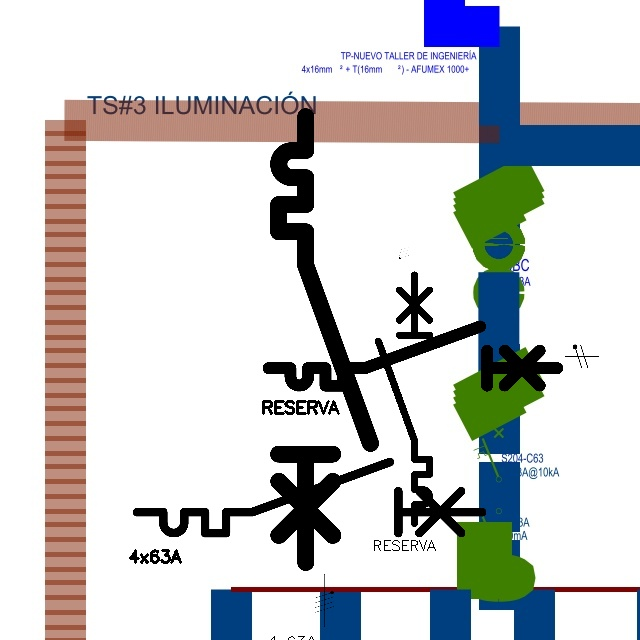interruptor_termomagnetico: (267, 105, 382, 574), (128, 453, 491, 542), (261, 319, 564, 393), (372, 268, 436, 529)
